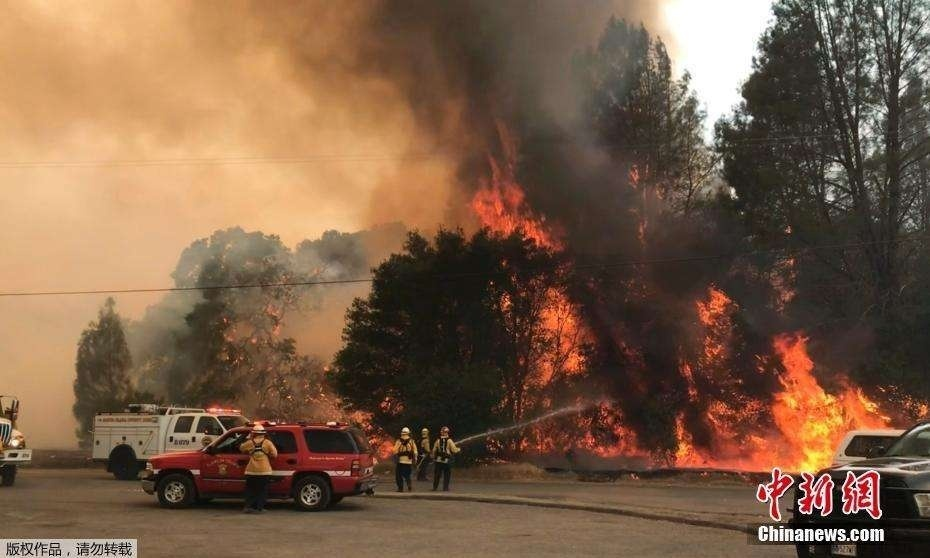fire: (468, 131, 909, 485), (651, 269, 913, 473)
